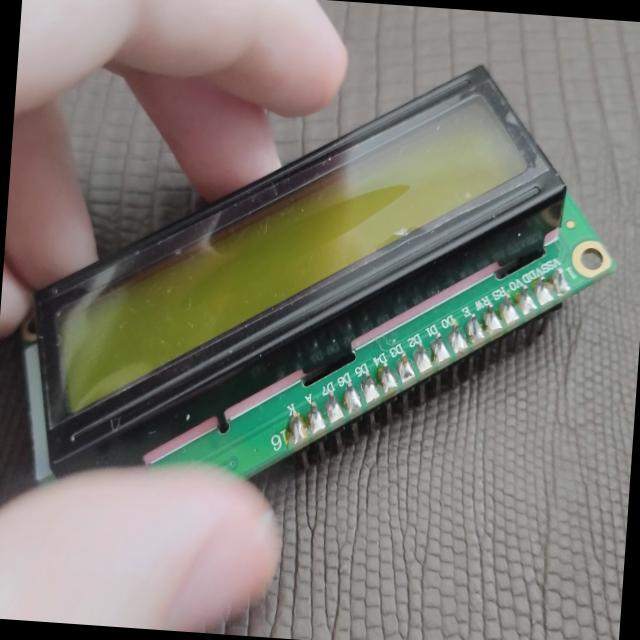lcd: (0, 35, 629, 548)
